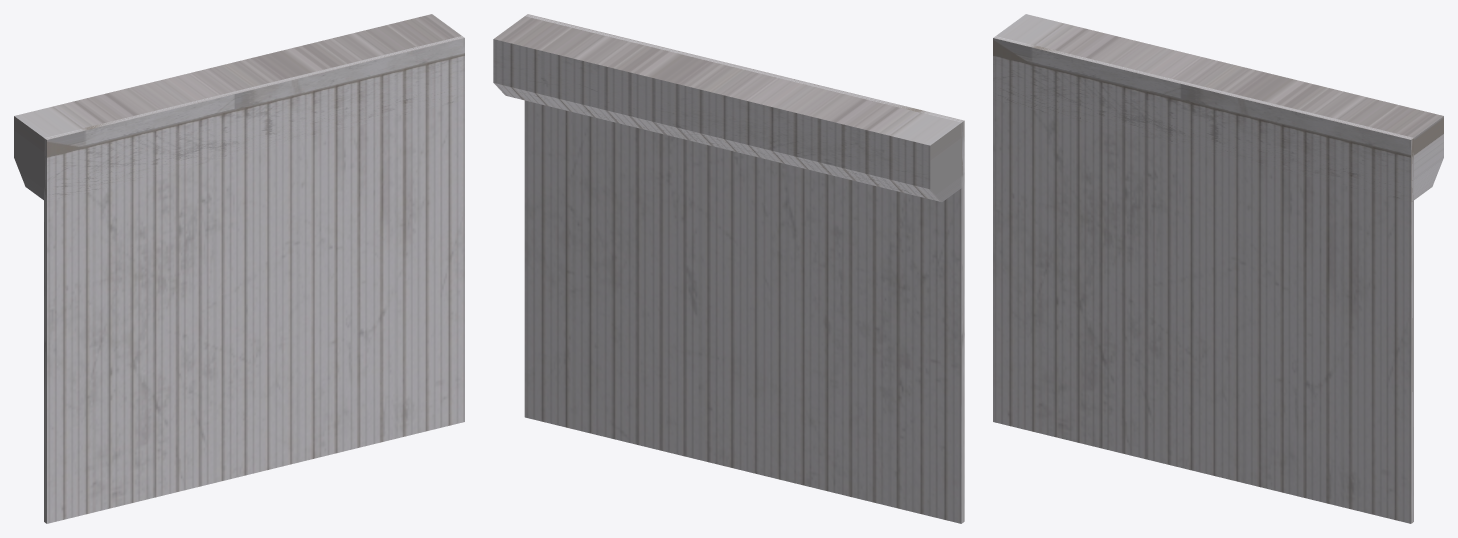
Rendered from Rollershutter_W_C.fbx.
3 views of the same model, side by side, from view 1: azimuth 30°, elevation 25°; view 2: azimuth 150°, elevation 25°; view 3: azimuth 330°, elevation 25° (orthographic). The views are drawn at different scales.
Visible parts, largest first — view 1: Rollershutter_W_C; view 2: Rollershutter_W_C; view 3: Rollershutter_W_C.
Part boxes in pixels (x1,y1,x2,y2): Rollershutter_W_C: (14,14,464,523); Rollershutter_W_C: (493,14,964,523); Rollershutter_W_C: (993,14,1443,523).
Size of the model in its own units: 291 by 256 by 39.59.
